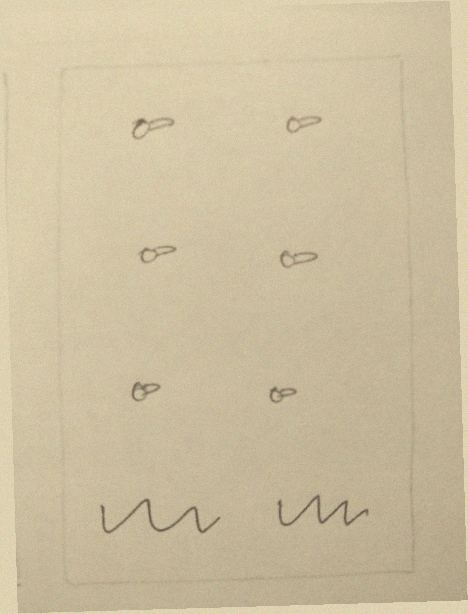switch: (118, 104, 189, 147), (268, 233, 326, 283), (117, 366, 175, 416), (272, 101, 334, 146), (129, 232, 187, 274), (254, 374, 311, 414)
text: (84, 486, 230, 551), (264, 480, 381, 542)
